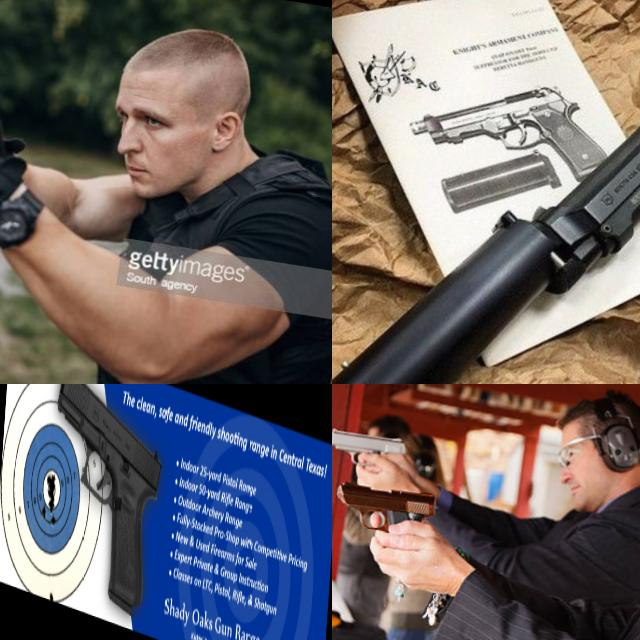handgun: (518, 12, 640, 347), (44, 384, 168, 626), (0, 53, 104, 242), (332, 476, 441, 560), (332, 423, 410, 483)
